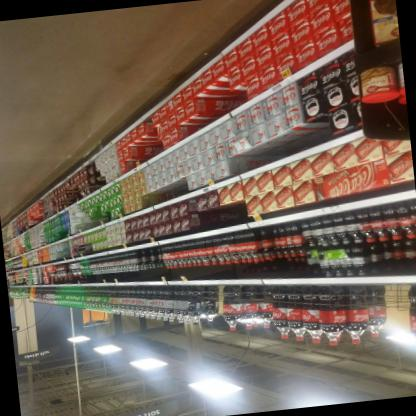empty_space: (378, 280, 408, 338), (215, 282, 225, 323)
